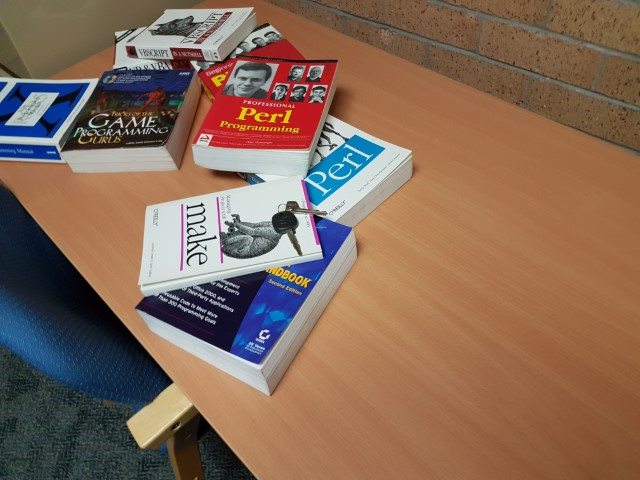key: (272, 212, 304, 257)
